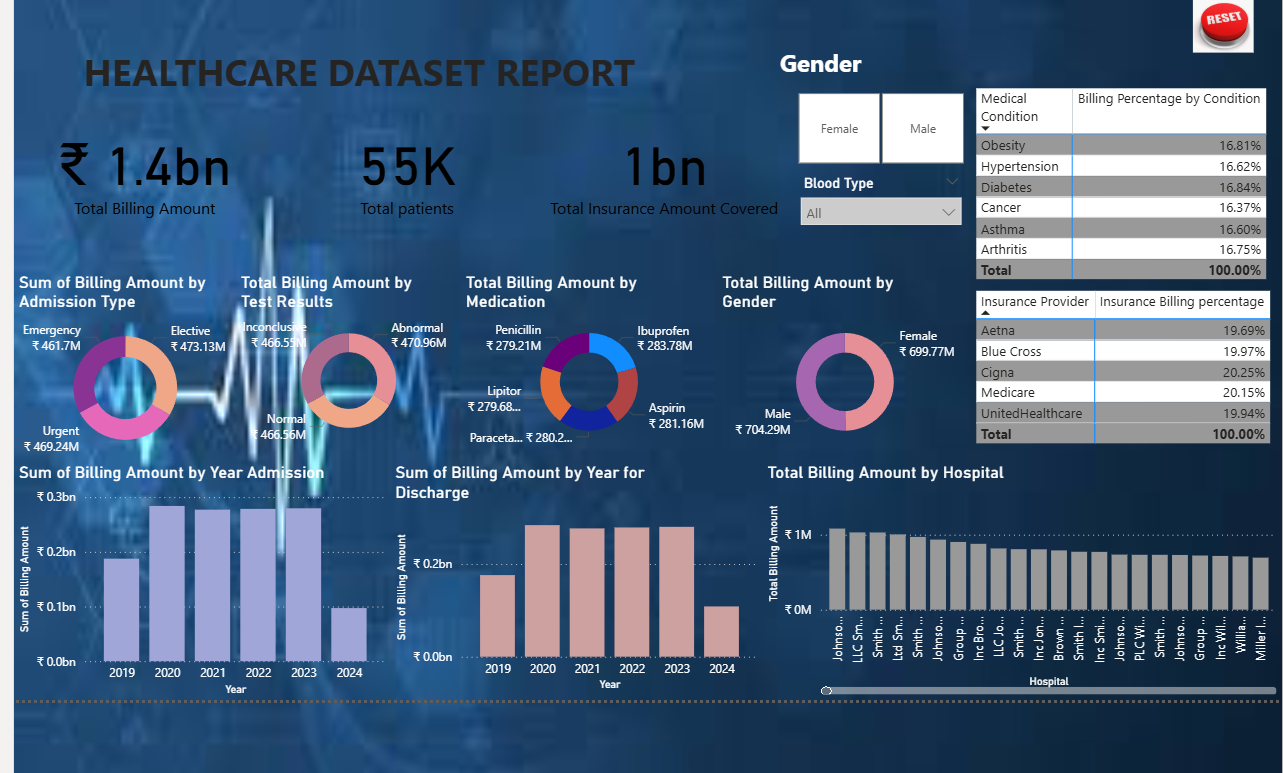

What the dashboard file says about the page in this screenshot:
{"tool":"powerbi","page":{"name":"Page 1","canvas":[1280,720],"ordinal":0},"visuals":[{"type":"donutChart","fields":{"Y":["Sum(healthcare_dataset updated.Billing Amount)"],"Category":["healthcare_dataset updated.Admission Type"]},"box":[0,287.7,224.1,192.3],"z":0},{"type":"pivotTable","fields":{"Rows":["healthcare_dataset updated.Insurance Provider"],"Values":["measur.Billing percentage"]},"box":[966.1,301.3,313.4,166.6],"z":1000},{"type":"donutChart","fields":{"Category":["healthcare_dataset updated.Test Results"],"Y":["measur.Total Billing Amount"]},"box":[224.1,287.7,227.1,177.2],"z":2000},{"type":"card","fields":{"Values":["measur.Total patients"]},"box":[262.7,129,265.8,110.4],"z":3000},{"type":"card","fields":{"Values":["measur.Total Amount"]},"box":[0,128.7,263.5,110.5],"z":4000},{"type":"card","fields":{"Values":["measur.Total Insurance Amount Covered"]},"box":[527,129,258.1,110.4],"z":5000},{"type":"pivotTable","fields":{"Values":["measur.Billing Percentage"],"Rows":["healthcare_dataset updated.Medical Condition"]},"box":[966.1,96.9,313.4,210.5],"z":6000},{"type":"lineStackedColumnComboChart","title":"Sum of Billing Amount by Year Admission","fields":{"Category":["healthcare_dataset updated.Date of Admission.Variation.Date Hierarchy.Year"],"Y":["Sum(healthcare_dataset updated.Billing Amount)"]},"box":[0,480,380.1,239.2],"z":7000},{"type":"lineStackedColumnComboChart","title":"Sum of Billing Amount by Year for Discharge","fields":{"Category":["healthcare_dataset updated.Discharge Date.Variation.Date Hierarchy.Year"],"Y":["Sum(healthcare_dataset updated.Billing Amount)"]},"box":[380.1,480,375.5,234.7],"z":8000},{"type":"slicer","fields":{"Values":["healthcare_dataset updated.Gender"]},"box":[766.2,99.9,216.5,84.8],"z":9000},{"type":"textbox","box":[65.1,54.5,575.4,68.1],"z":10000},{"type":"textbox","box":[761.6,54.5,113.6,42.4],"z":11000},{"type":"donutChart","fields":{"Category":["healthcare_dataset updated.Medication"],"Y":["measur.Total Billing Amount"]},"box":[451.5,288.2,258,179.8],"z":12000},{"type":"slicer","fields":{"Values":["healthcare_dataset updated.Blood Type"]},"box":[784.4,184.7,181.7,75.7],"z":13000},{"type":"lineStackedColumnComboChart","fields":{"Category":["healthcare_dataset updated.Hospital"],"Y":["measur.Total Billing Amount"]},"box":[755.6,480,523.9,239.2],"z":14000},{"type":"image","box":[1161.4,7.6,118.1,63.6],"z":15000},{"type":"donutChart","fields":{"Y":["measur.Total Billing Amount"],"Category":["healthcare_dataset updated.Gender"]},"box":[709.5,288.2,256.6,179.8],"z":15001}]}

Visuals, with their boxes on the page's 1280x720 design canvas (x1, y1, x2, y2). These are canvas units, not pixel positions in the 1283x773 screenshot, which may show the page scaled, cropped or inside an application window:
donutChart - Sum(healthcare_dataset updated.Billing Amount) x healthcare_dataset updated.Admission Type: select_region(0, 288, 224, 480)
pivotTable - healthcare_dataset updated.Insurance Provider x measur.Billing percentage: select_region(966, 301, 1280, 468)
donutChart - healthcare_dataset updated.Test Results x measur.Total Billing Amount: select_region(224, 288, 451, 465)
card - measur.Total patients: select_region(263, 129, 528, 239)
card - measur.Total Amount: select_region(0, 129, 264, 239)
card - measur.Total Insurance Amount Covered: select_region(527, 129, 785, 239)
pivotTable - measur.Billing Percentage x healthcare_dataset updated.Medical Condition: select_region(966, 97, 1280, 307)
"Sum of Billing Amount by Year Admission" lineStackedColumnComboChart: select_region(0, 480, 380, 719)
"Sum of Billing Amount by Year for Discharge" lineStackedColumnComboChart: select_region(380, 480, 756, 715)
slicer - healthcare_dataset updated.Gender: select_region(766, 100, 983, 185)
textbox: select_region(65, 54, 640, 123)
textbox: select_region(762, 54, 875, 97)
donutChart - healthcare_dataset updated.Medication x measur.Total Billing Amount: select_region(452, 288, 710, 468)
slicer - healthcare_dataset updated.Blood Type: select_region(784, 185, 966, 260)
lineStackedColumnComboChart - healthcare_dataset updated.Hospital x measur.Total Billing Amount: select_region(756, 480, 1280, 719)
image: select_region(1161, 8, 1280, 71)
donutChart - measur.Total Billing Amount x healthcare_dataset updated.Gender: select_region(710, 288, 966, 468)
